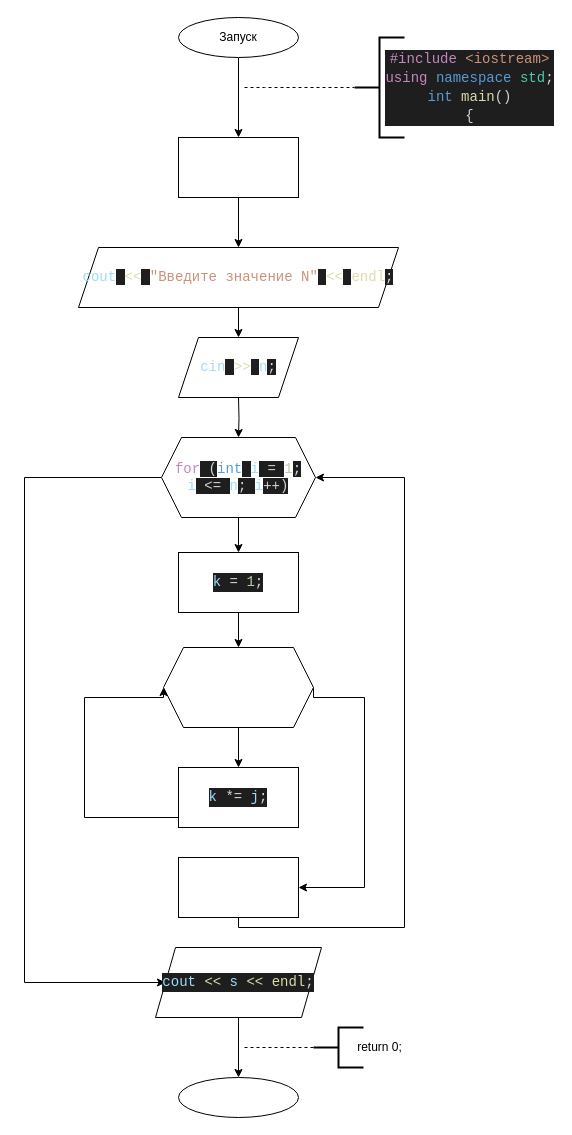
The diagram is 572 pixels wide and 1135 high, and some of its shapes have lost their labels. Here are the shapes that lost their labels. From the top down, the centre of each, then its label:
At point (238, 167): "int n , k , s = 0 ;".
At point (238, 687): "for ( int j = 1 ; j <= 2 * i ; j ++)".
At point (238, 887): "s += k ;".
At point (238, 1097): "Конец".
